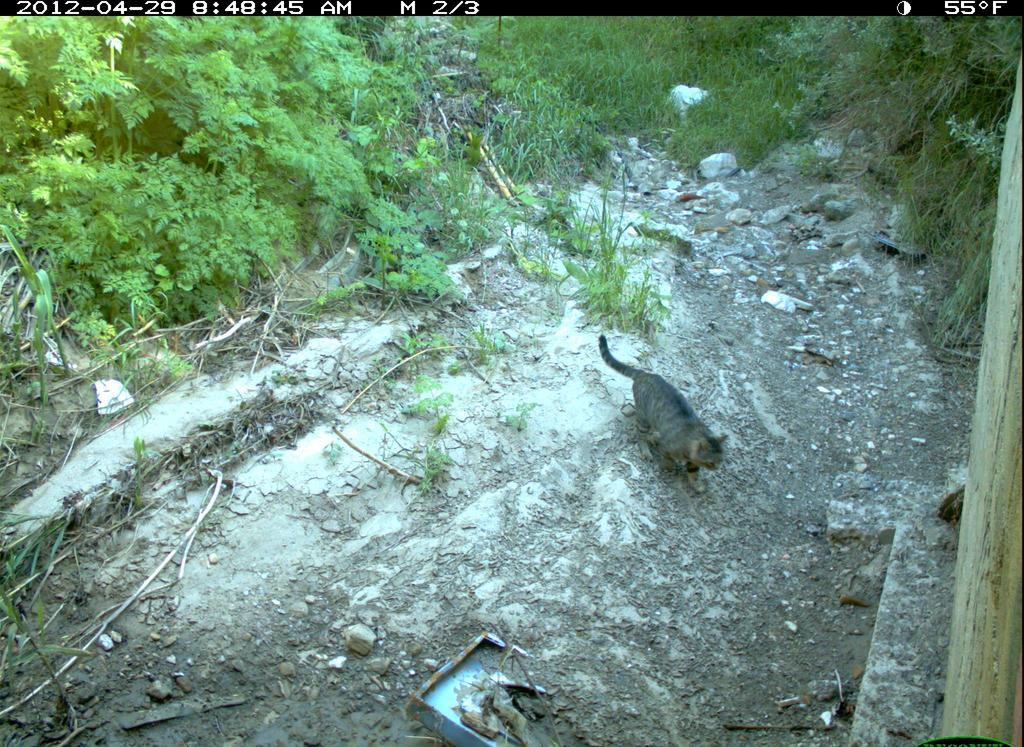cat: (585, 319, 734, 509)
